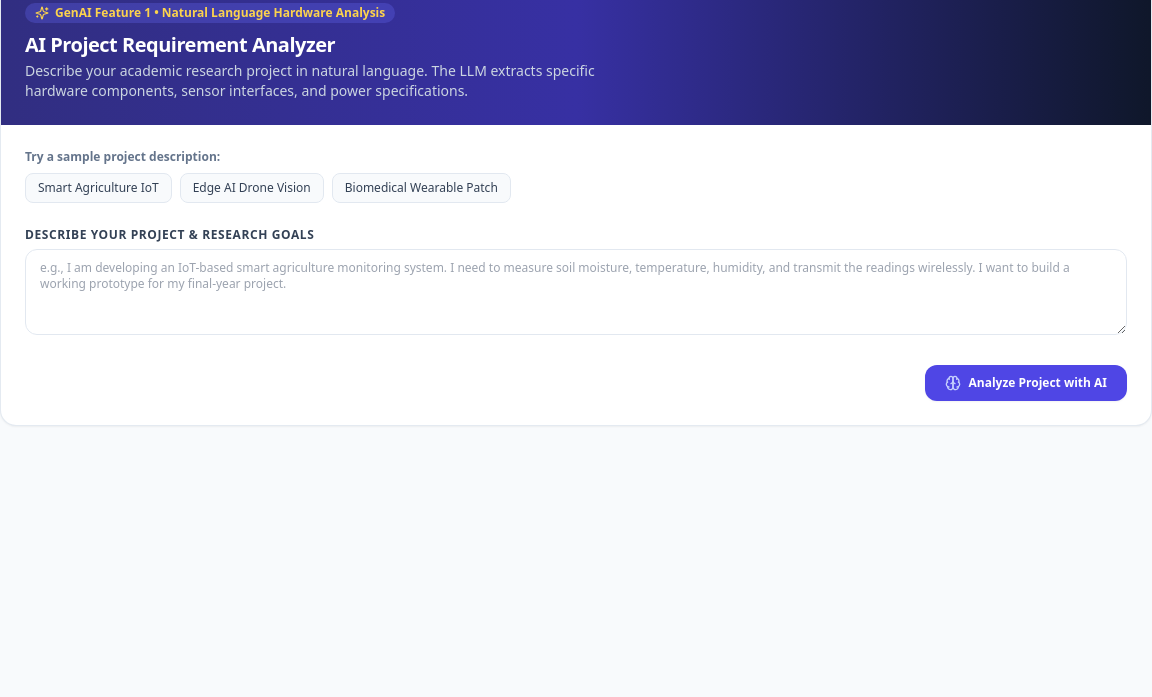
it: GenAI Frontend Features Integration › Feature 1: AIProjectAnalyzer should analyze description and render extracted equipment
Expected: the heading "AI Project Requirement Analyzer" is shown, [25,31,335,58]
Replace the text in the text box with placeholder "I am developing an IoT-based" with "Developing an automated hydroponics IoT nutrient monitor." at x=576, y=292, box [25,249,1127,335]
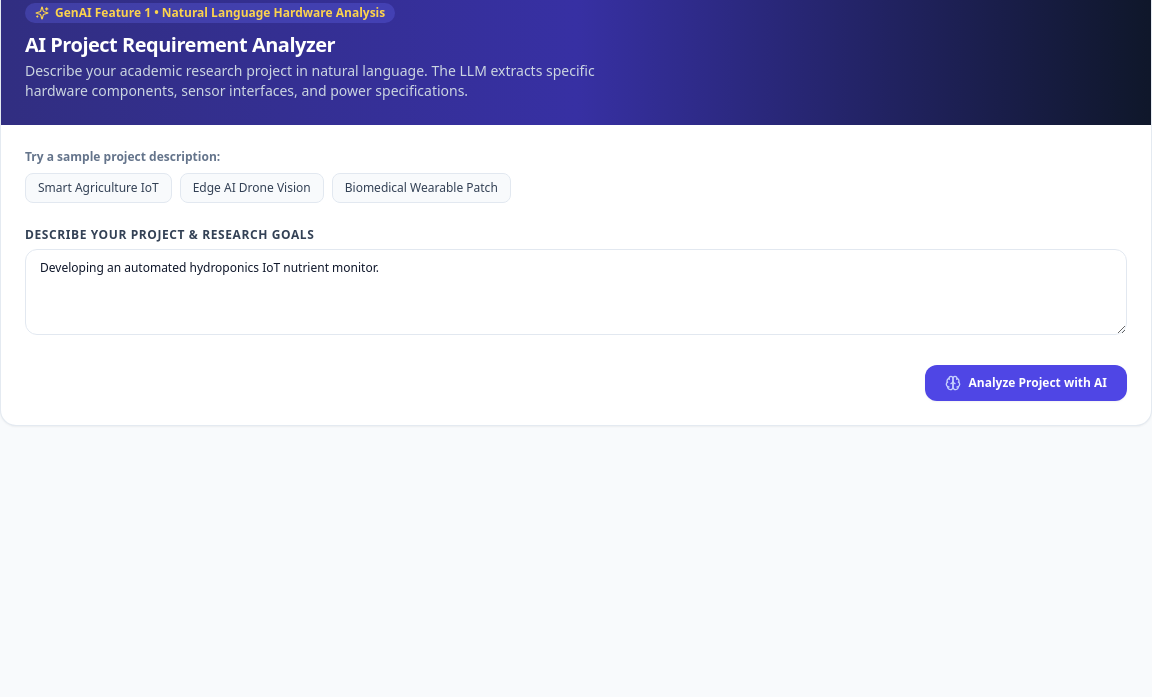
Click the button "Analyze Project with AI".
click(1026, 383)  # box [924,365,1127,401]
(page scrolled)
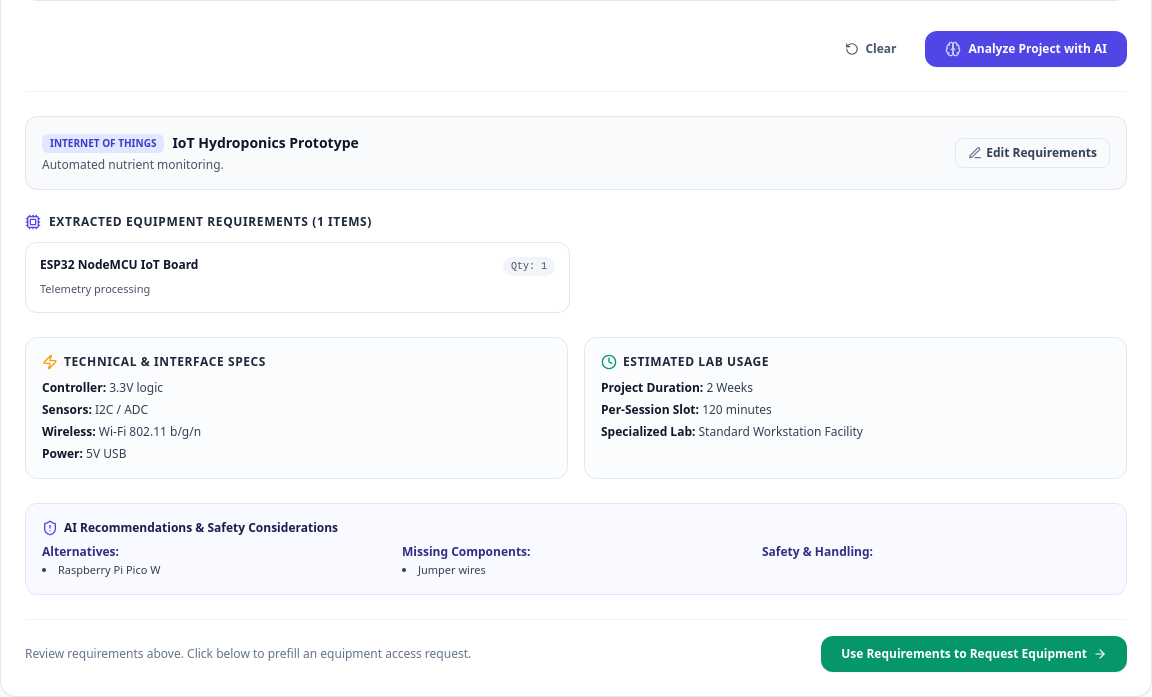
Expected: the heading "IoT Hydroponics Prototype" is shown, [172,133,359,153]
Expected: the text "ESP32 NodeMCU IoT Board" is shown, [40,257,198,273]
Expected: the text "Controller: 3.3V logic" is shown, [42,379,163,396]
